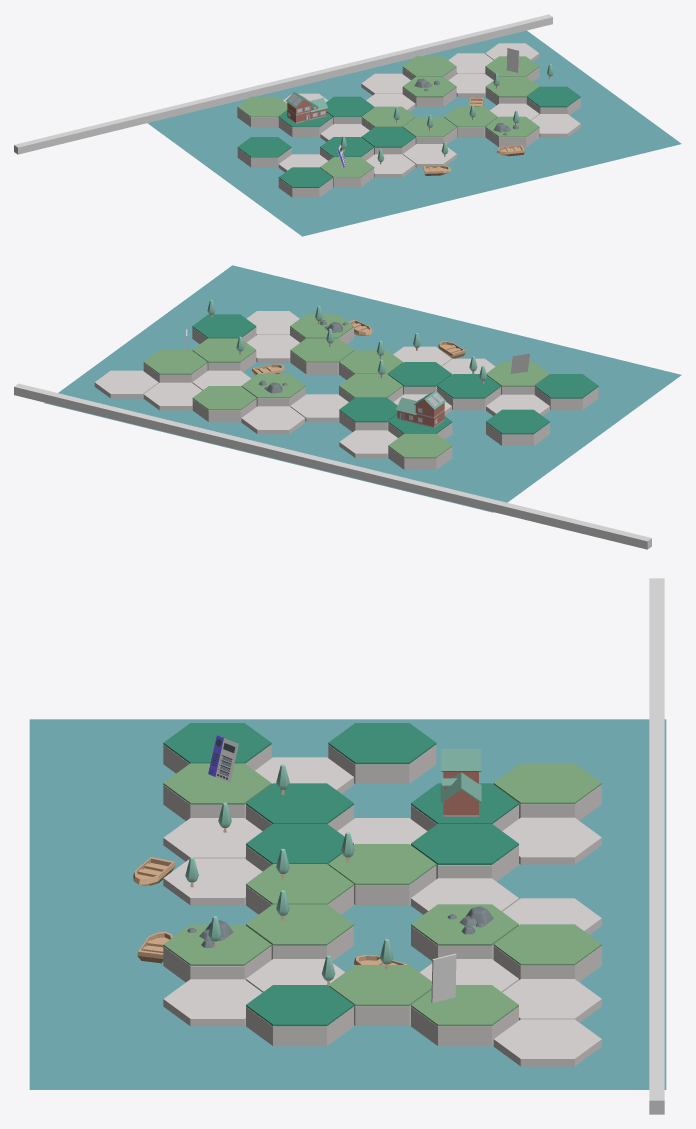
3 renders of one model, top to bottom at view 1: azimuth 30°, elevation 25°; view 2: azimuth 150°, elevation 25°; view 3: azimuth 270°, elevation 25°, orthographic. The views are drawn at different scales.
Parts seen in each view (by area): view 1: Plane, Cube, house_type03, Cylinder.021, Cylinder.020, Cylinder.037, Cylinder.043, Cylinder.017, Cylinder.045, Cylinder.007, Cylinder.040, Cylinder.039 (+27 smaller); view 2: Plane, Cube, Cylinder.012, Cylinder.027, Cylinder.028, Cylinder.001, house_type03, Cylinder.043, Cylinder.045, Cylinder.003, Cylinder.007, Cylinder.040 (+29 smaller); view 3: Plane, Cube, Cylinder.027, Cylinder.001, Cylinder.021, Cylinder.007, Cylinder.045, Cylinder.043, Cylinder.037, Cylinder.046, Cylinder.020, Cylinder.009 (+35 smaller).
Boxes of the visible parts, <box> form: Plane: <box>147,30,681,236</box>; Cube: <box>14,14,552,154</box>; house_type03: <box>286,92,328,123</box>; Cylinder.021: <box>531,114,580,137</box>; Cylinder.020: <box>403,144,456,167</box>; Cylinder.037: <box>526,86,580,107</box>; Cylinder.043: <box>237,96,287,117</box>; Cylinder.017: <box>366,154,415,177</box>; Cylinder.045: <box>237,137,291,157</box>; Cylinder.007: <box>402,56,456,76</box>; Cylinder.040: <box>278,167,332,187</box>; Cylinder.039: <box>361,127,415,147</box>; Plane: <box>44,265,681,512</box>; Cube: <box>14,383,651,549</box>; Cylinder.012: <box>241,406,305,434</box>; Cylinder.027: <box>94,370,158,398</box>; Cylinder.028: <box>143,382,202,410</box>; Cylinder.001: <box>339,430,397,458</box>; house_type03: <box>395,390,446,427</box>; Cylinder.043: <box>388,433,452,458</box>; Cylinder.045: <box>486,409,549,434</box>; Cylinder.003: <box>290,394,348,422</box>; Cylinder.007: <box>192,386,256,410</box>; Cylinder.040: <box>534,374,598,398</box>; Plane: <box>29,719,666,1089</box>; Cube: <box>649,578,664,1114</box>; Cylinder.027: <box>493,1019,601,1066</box>; Cylinder.001: <box>502,817,601,864</box>; Cylinder.021: <box>163,979,262,1026</box>; Cylinder.007: <box>493,924,601,965</box>; Cylinder.045: <box>328,723,436,764</box>; Cylinder.043: <box>493,763,601,804</box>; Cylinder.037: <box>246,985,353,1026</box>; Cylinder.046: <box>411,823,518,864</box>; Cylinder.020: <box>163,858,262,905</box>; Cylinder.009: <box>329,965,431,1006</box>.
Bounding box in the file's own units: 8 × 0.5567 × 4.12.
